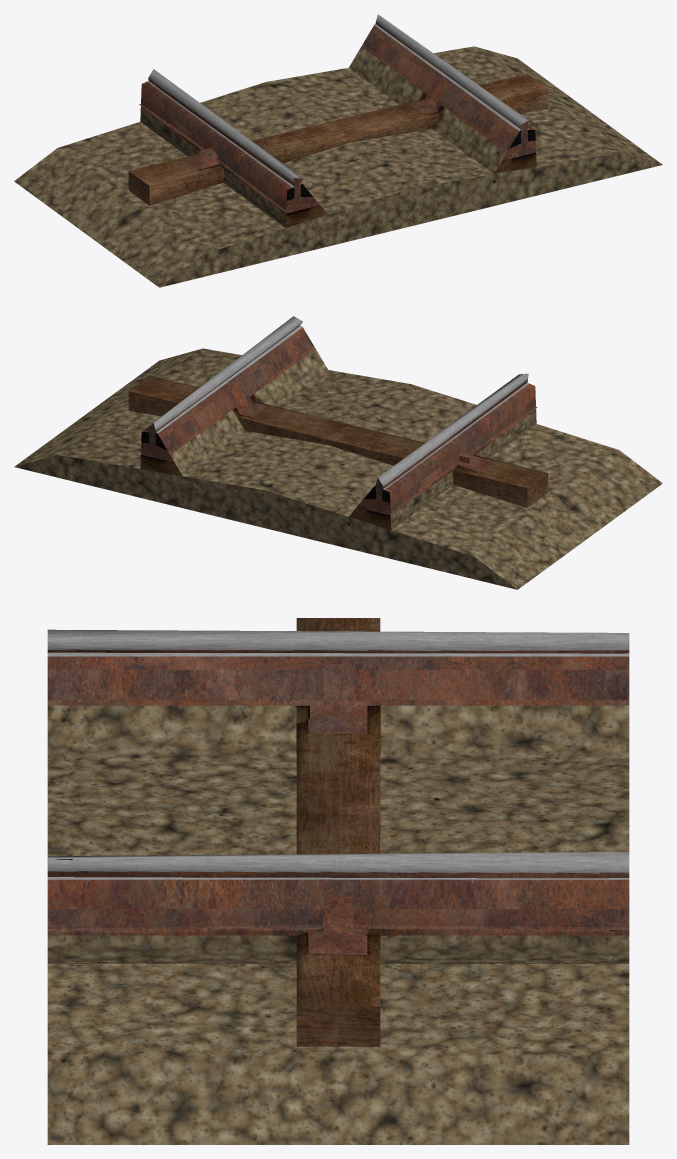
Rendered from rail_LOD.fbx.
The picture shows the model from 3 angles, top to bottom: view 1: azimuth 30°, elevation 25°; view 2: azimuth 150°, elevation 25°; view 3: azimuth 270°, elevation 25°; orthographic projection. The views are drawn at different scales.
Visible parts, largest first — view 1: Rail_0_5x1_LOD1, Rail_0_5x1_LOD2; view 2: Rail_0_5x1_LOD1, Rail_0_5x1_LOD2; view 3: Rail_0_5x1_LOD1, Rail_0_5x1_LOD2.
Part boxes in pixels (<box>): Rail_0_5x1_LOD1: <box>14,14,662,287</box>; Rail_0_5x1_LOD2: <box>15,24,661,287</box>; Rail_0_5x1_LOD1: <box>14,316,661,589</box>; Rail_0_5x1_LOD2: <box>15,326,662,588</box>; Rail_0_5x1_LOD1: <box>47,618,629,1144</box>; Rail_0_5x1_LOD2: <box>47,652,629,1144</box>.
Size of the model in its own units: 100 by 14.86 by 50.
